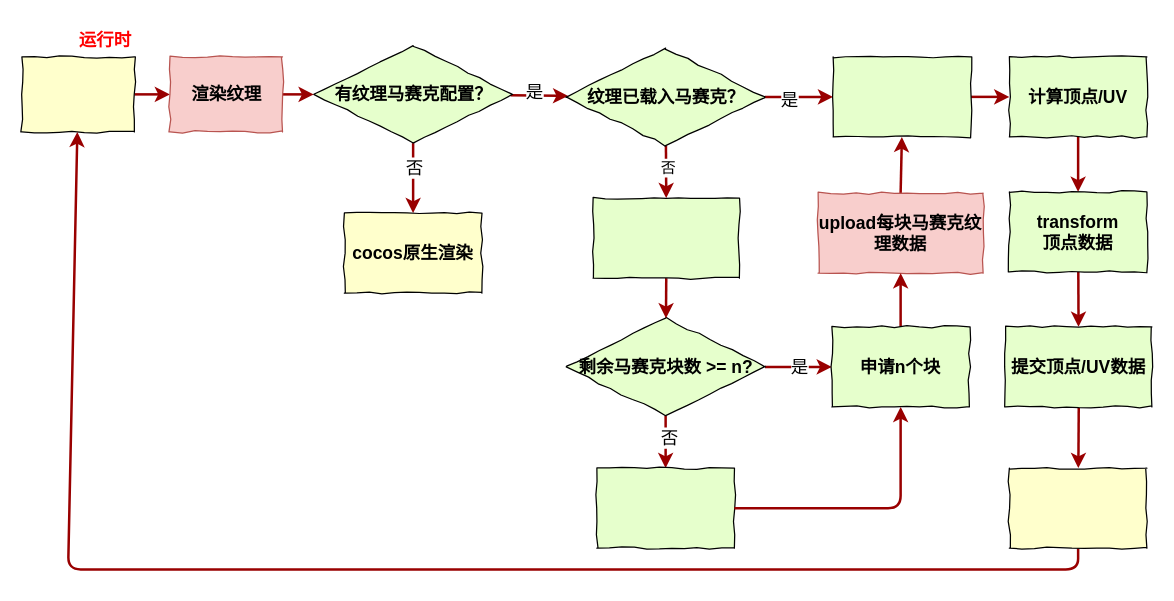
Image size: 1174x601. Some labels were removed from this diagram. Here are the shapes that lost their labels. From the top down, the centre of each, then its label:
At pixel 77 94: "Tick".
At pixel 901 96: "读取多边形配置".
At pixel 665 237: "读取纹理切割配置".
At pixel 665 507: "清理LRU缓存".
At pixel 1077 507: "更新LRU缓存".
